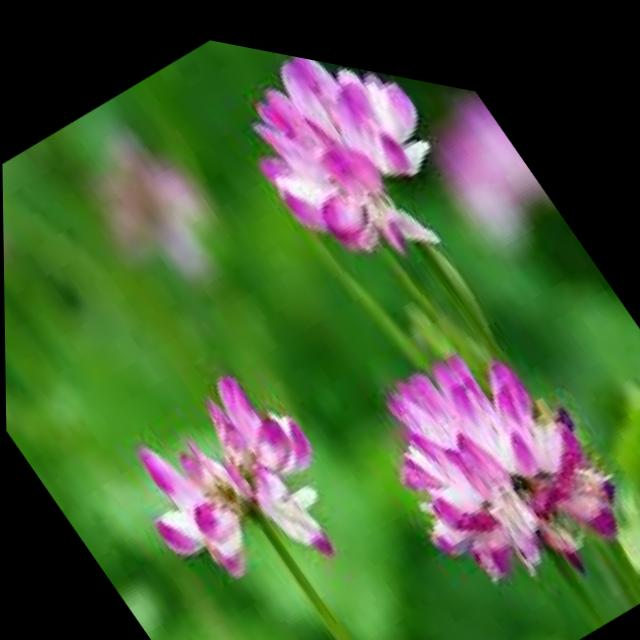Flower: (325, 258, 640, 628), (208, 32, 492, 310), (105, 332, 347, 604)
